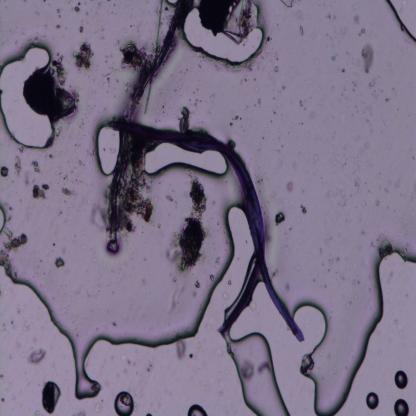Air bubble: (3, 231, 236, 395), (293, 243, 416, 414), (0, 41, 55, 150), (224, 331, 290, 416), (186, 6, 264, 66), (145, 143, 228, 178), (384, 0, 416, 48), (93, 126, 122, 176), (114, 390, 135, 415), (394, 370, 409, 391), (187, 403, 210, 416), (394, 397, 410, 415), (366, 390, 380, 410)
Background material: (24, 57, 77, 124), (178, 177, 210, 273), (196, 1, 258, 43), (124, 154, 155, 223), (0, 228, 29, 276), (121, 44, 152, 72), (41, 380, 63, 414), (74, 43, 96, 72), (360, 42, 376, 76), (178, 105, 194, 133), (363, 76, 381, 98), (27, 346, 47, 365), (31, 183, 50, 200), (191, 86, 206, 107), (377, 238, 393, 257), (273, 209, 288, 228), (175, 340, 188, 361), (13, 154, 23, 176), (278, 1, 297, 12), (60, 184, 75, 195), (31, 159, 40, 177), (293, 96, 306, 108), (52, 256, 65, 268), (230, 114, 241, 128), (349, 77, 358, 94), (0, 164, 8, 180), (355, 28, 367, 38), (338, 26, 347, 39), (300, 204, 308, 218), (74, 0, 82, 14), (167, 194, 179, 202), (286, 182, 295, 192), (238, 76, 249, 84), (269, 107, 278, 116), (272, 62, 280, 72), (255, 96, 261, 109), (299, 24, 305, 36), (326, 12, 332, 24), (47, 153, 55, 161), (54, 22, 63, 29), (78, 26, 85, 35), (383, 96, 390, 104), (331, 54, 337, 62), (340, 68, 346, 75), (56, 8, 61, 16)
Cellulose filter fibre: (105, 5, 188, 253)
Cotton: (108, 119, 308, 340)
